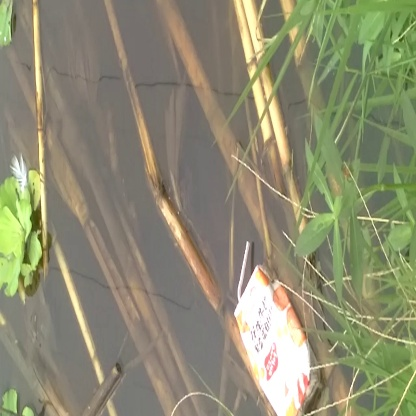milk-box: (225, 244, 329, 416)
